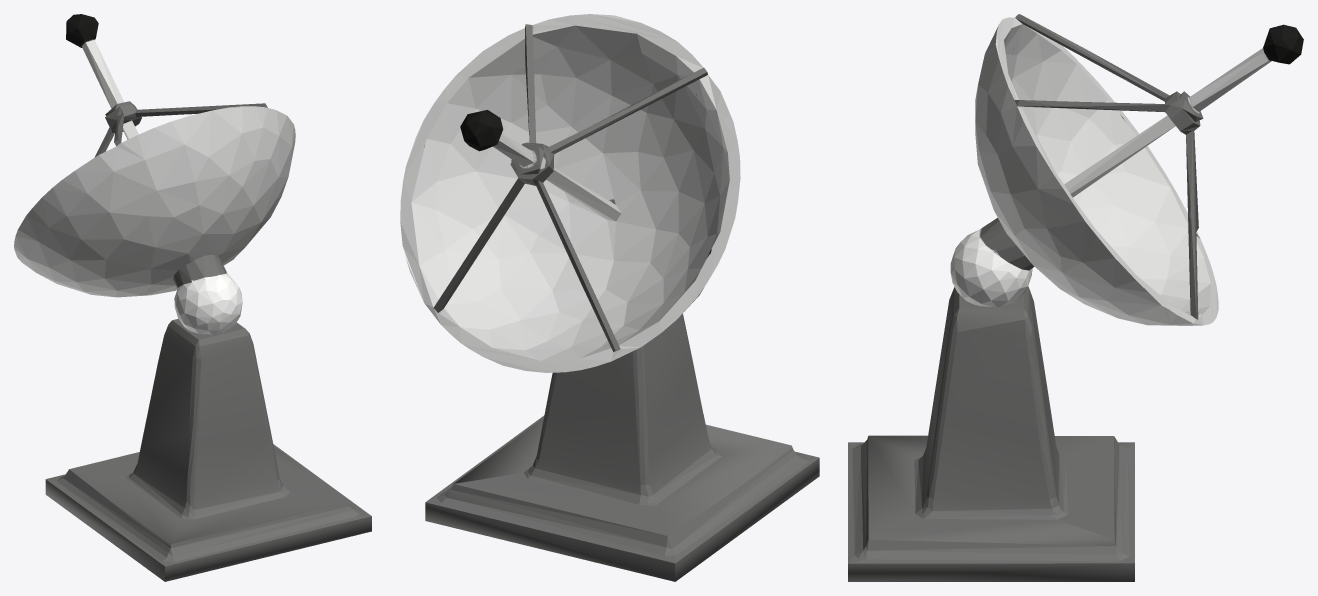
Rendered from radarschuessel.glb.
3 views of the same model, side by side, from view 1: azimuth 30°, elevation 25°; view 2: azimuth 150°, elevation 25°; view 3: azimuth 270°, elevation 25° (orthographic). The views are drawn at different scales.
Visible parts, largest first — view 1: 282233_23_05_24_17_18_17_2, 282233_23_05_24_17_18_17_1, 282233_23_05_24_17_18_17_0; view 2: 282233_23_05_24_17_18_17_1, 282233_23_05_24_17_18_17_2; view 3: 282233_23_05_24_17_18_17_2, 282233_23_05_24_17_18_17_1, 282233_23_05_24_17_18_17_0.
Boxes of the visible parts, x1,y1,x2,y2 form: 282233_23_05_24_17_18_17_2: (45, 318, 371, 581); 282233_23_05_24_17_18_17_1: (14, 14, 295, 297); 282233_23_05_24_17_18_17_0: (173, 255, 242, 334); 282233_23_05_24_17_18_17_1: (400, 14, 740, 372); 282233_23_05_24_17_18_17_2: (425, 313, 819, 581); 282233_23_05_24_17_18_17_2: (848, 286, 1134, 581); 282233_23_05_24_17_18_17_1: (975, 14, 1303, 325); 282233_23_05_24_17_18_17_0: (950, 217, 1034, 306).
Size of the model in its own units: 3.59 by 5.33 by 4.45.
3 materials, 3 textured.
